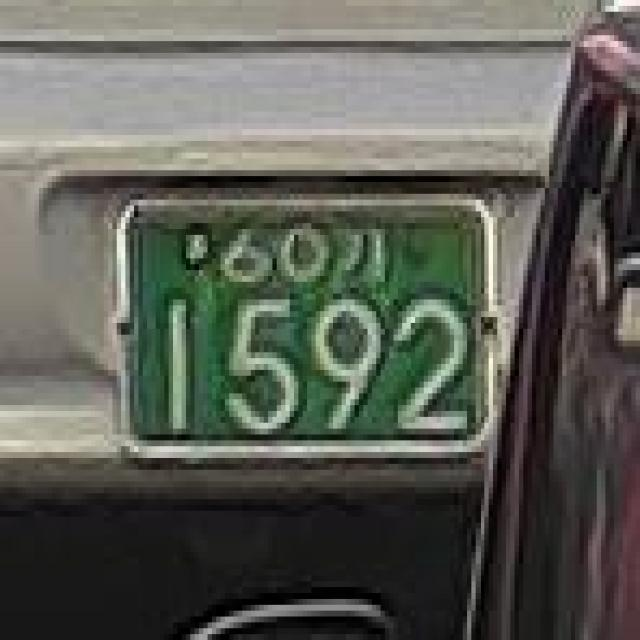illegal_plate: (106, 174, 502, 480)
